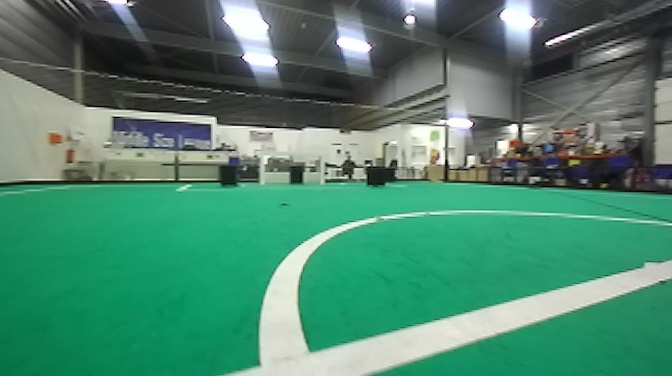goalpost: (313, 148, 327, 185), (257, 147, 269, 187)
